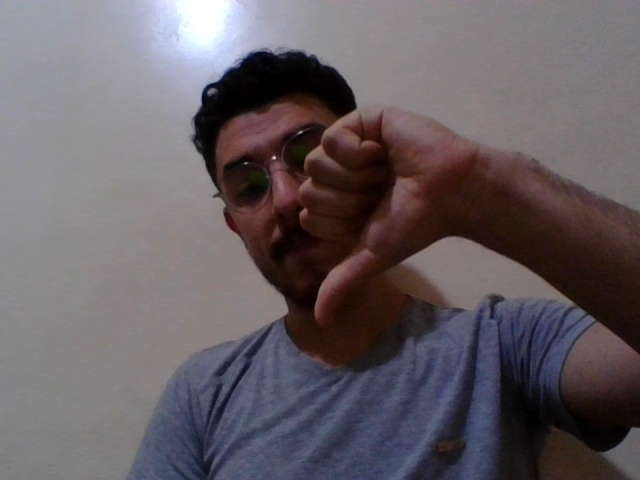No: (276, 68, 521, 369)
